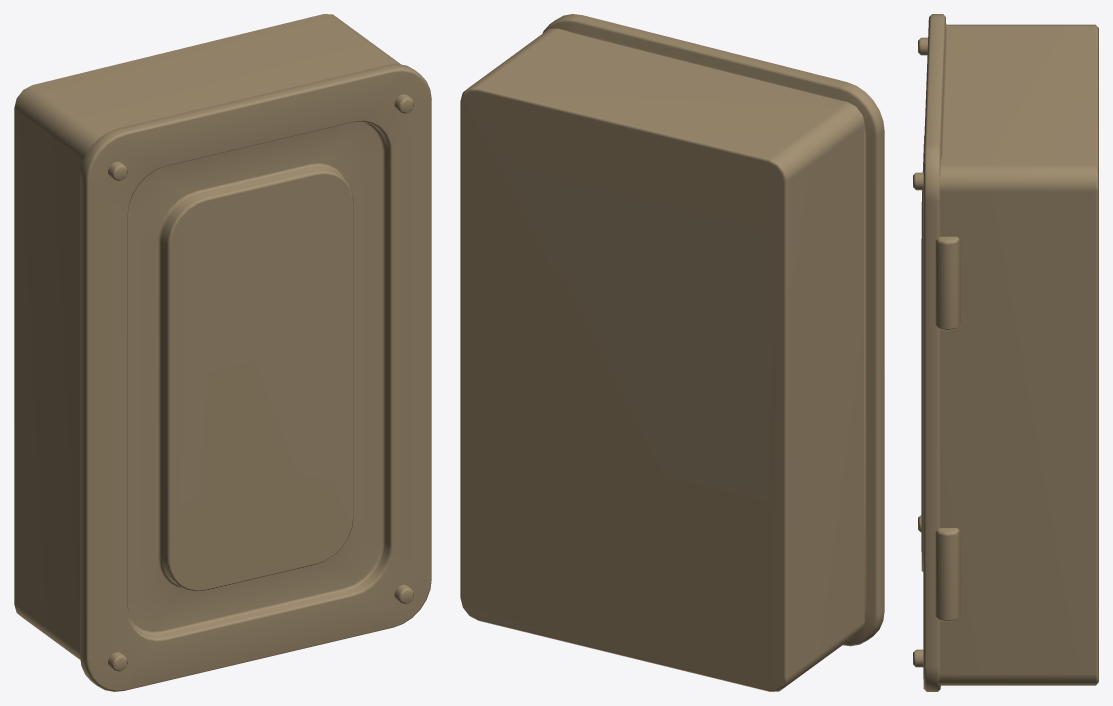
File: breaker.fbx
3 renders of one model, left to right at view 1: azimuth 30°, elevation 25°; view 2: azimuth 150°, elevation 25°; view 3: azimuth 270°, elevation 25°, orthographic. The views are drawn at different scales.
Visible parts, largest first — view 1: Cube.002, Cube.003; view 2: Cube.003, Cube.002; view 3: Cube.003, Cube.002.
Part boxes in pixels (<box>): Cube.002: <box>80,64,431,691</box>; Cube.003: <box>14,14,400,659</box>; Cube.003: <box>460,28,864,691</box>; Cube.002: <box>542,14,884,646</box>; Cube.003: <box>935,24,1098,685</box>; Cube.002: <box>913,14,946,691</box>.
Size of the model in its own units: 48.33 by 73.29 by 22.72.
